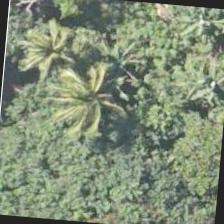Kelapa_Sawit: (40, 49, 138, 147), (2, 0, 98, 92)
